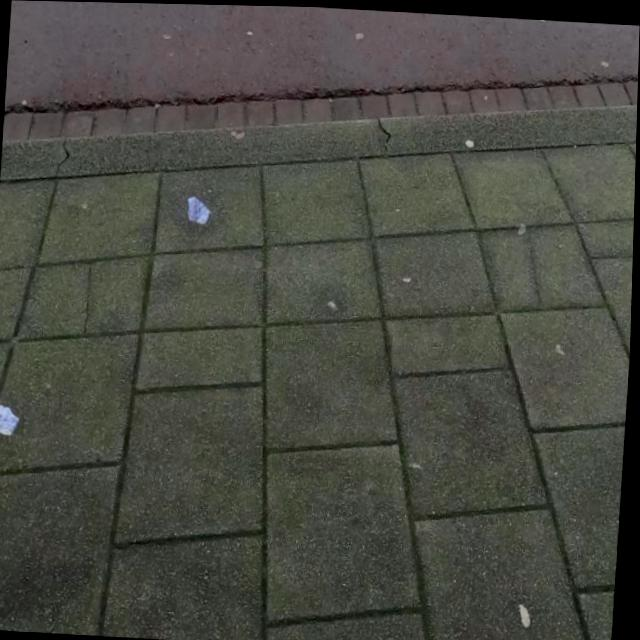Paper: (0, 394, 30, 442)
